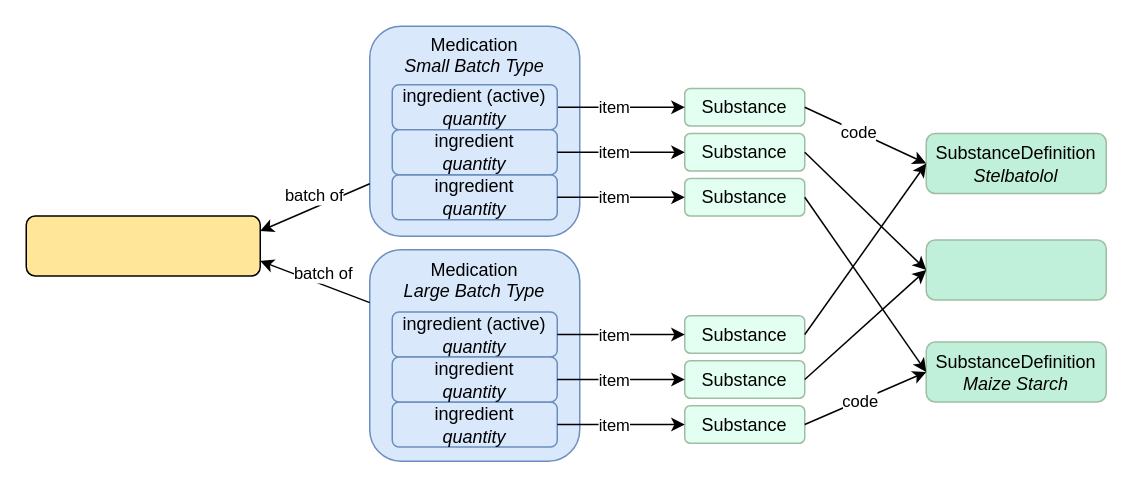
Image size: 1133x488. Some labels were removed from this diagram. The centre of each missing label's shape, as x and y in pixels:
MedicinalProductDefinition Stelbat Tablets, 20mg: (x=142, y=245)
SubstanceDefinition Mannitol: (x=1015, y=269)
